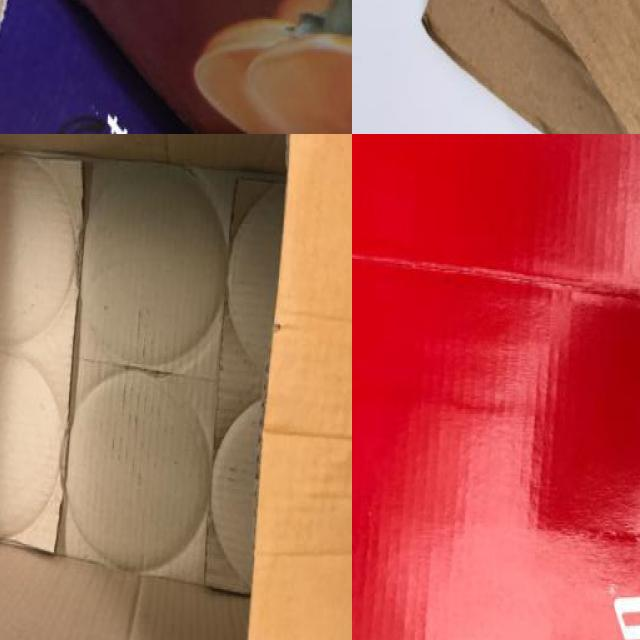class_name: (0, 134, 352, 640), (352, 134, 640, 640), (0, 0, 352, 134), (352, 0, 640, 134)
